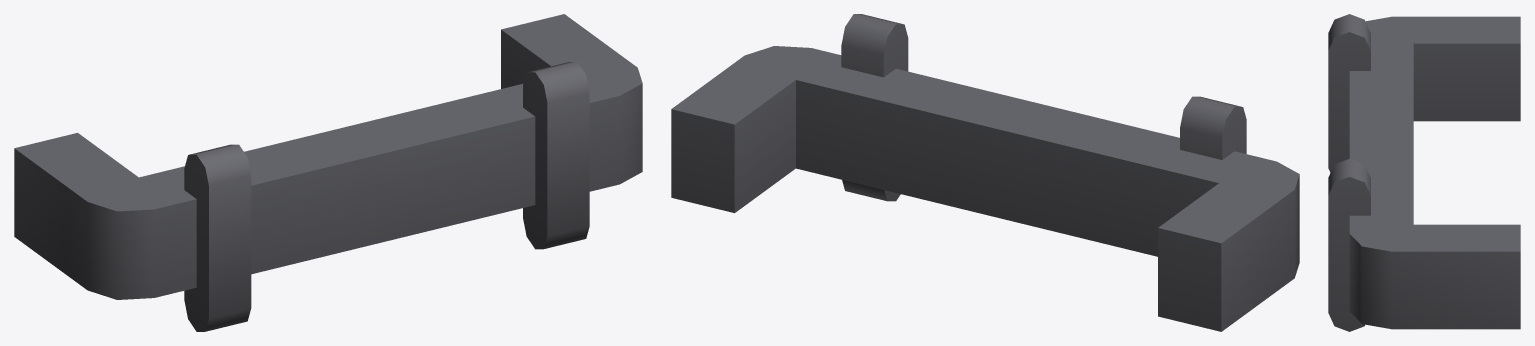
File: debris_bumper.glb
3 renders of one model, left to right at view 1: azimuth 30°, elevation 25°; view 2: azimuth 150°, elevation 25°; view 3: azimuth 270°, elevation 25°, orthographic. The views are drawn at different scales.
Parts seen in each view (by area): view 1: debris-bumper; view 2: debris-bumper; view 3: debris-bumper.
Boxes of the visible parts, box(x1,y1,x2,y2) form: debris-bumper: box(14, 14, 642, 331); debris-bumper: box(671, 14, 1299, 331); debris-bumper: box(1328, 14, 1520, 331).
Size of the model in its own units: 1.56 by 0.4787 by 0.5386.
Materials: 1 (1 with a texture image).
